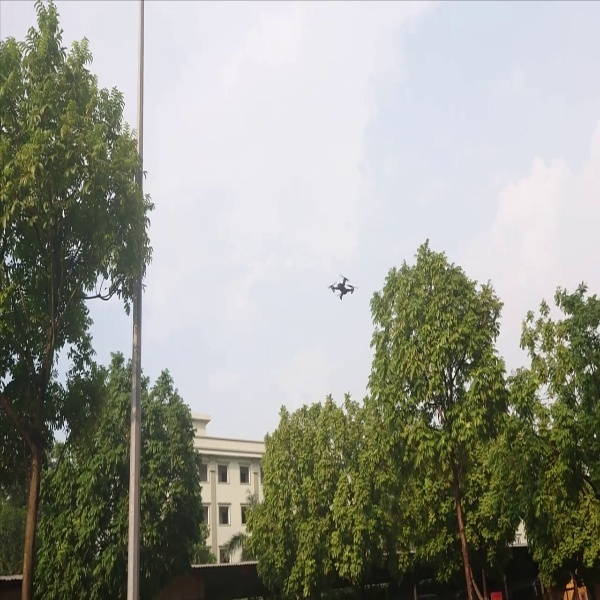drone: (322, 268, 361, 307)
